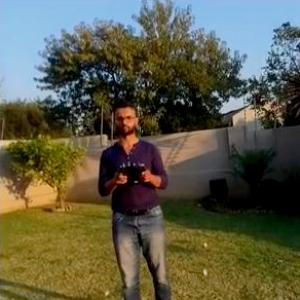follow: (89, 84, 175, 299)
